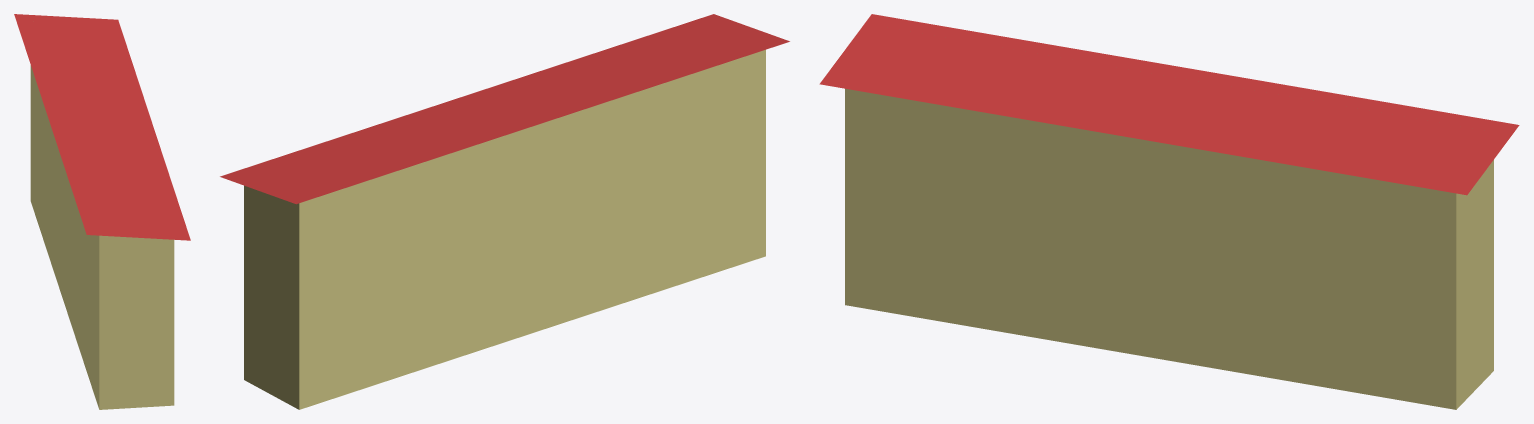
3 renders of one model, left to right at view 1: azimuth 30°, elevation 25°; view 2: azimuth 150°, elevation 25°; view 3: azimuth 270°, elevation 25°, orthographic. The views are drawn at different scales.
Size of the model in its own units: 9.99 by 17.84 by 6.78.
